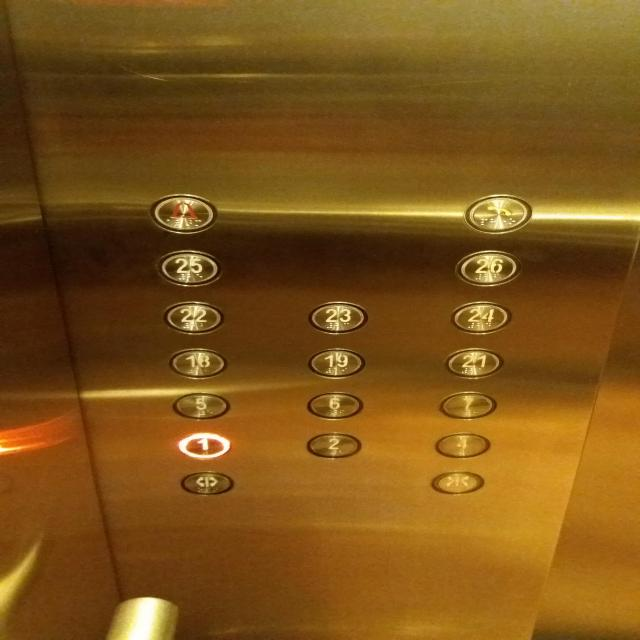1: (176, 432, 232, 459)
18: (166, 348, 229, 380)
19: (305, 348, 368, 380)
2: (305, 432, 362, 460)
21: (442, 347, 505, 379)
22: (160, 300, 227, 336)
23: (304, 300, 370, 335)
24: (446, 300, 512, 336)
25: (154, 250, 225, 288)
26: (453, 249, 524, 287)
4: (434, 432, 491, 459)
5: (171, 392, 230, 420)
6: (305, 392, 364, 419)
7: (437, 391, 497, 421)
alarm: (146, 193, 220, 235)
call: (461, 193, 535, 235)
close: (429, 470, 486, 496)
open: (179, 470, 235, 496)
